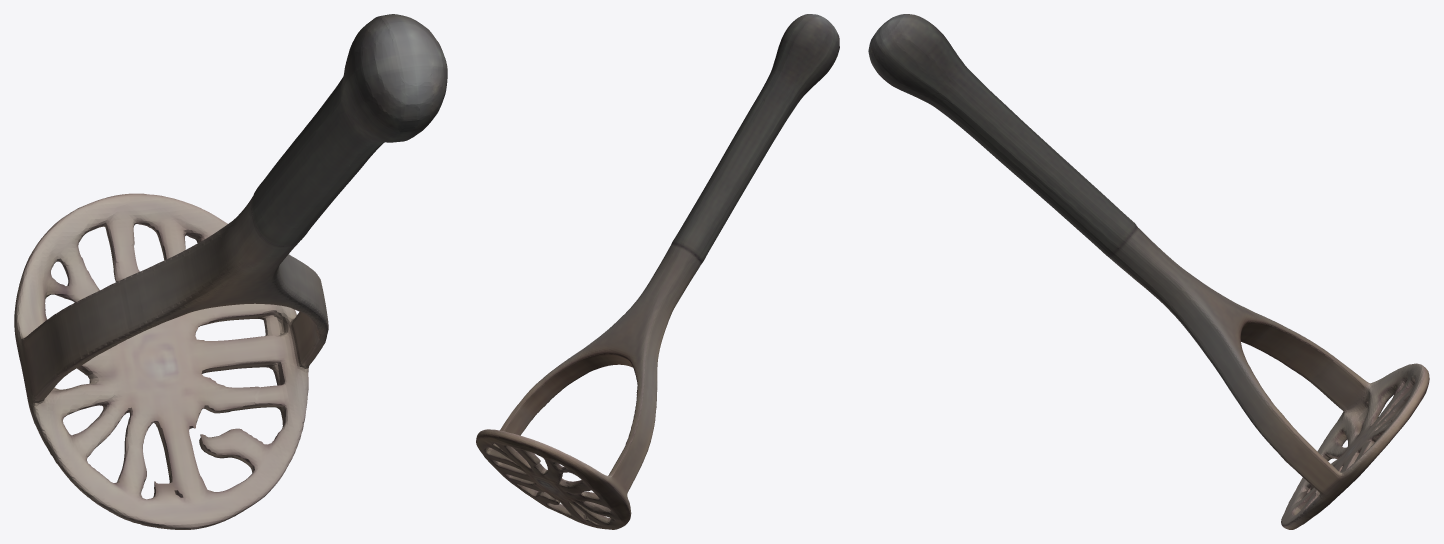
File: frame_0065_source_000065_object.glb
3 renders of one model, left to right at view 1: azimuth 30°, elevation 25°; view 2: azimuth 150°, elevation 25°; view 3: azimuth 270°, elevation 25°, orthographic. The views are drawn at different scales.
Parts seen in each view (by area): view 1: world; view 2: world; view 3: world.
Boxes of the visible parts, x1=… form: world: x1=14, y1=14, x2=447, y2=529; world: x1=476, y1=14, x2=839, y2=529; world: x1=868, y1=14, x2=1429, y2=529.
Bounding box in the file's own units: 0.0824 × 0.202 × 0.2187.
